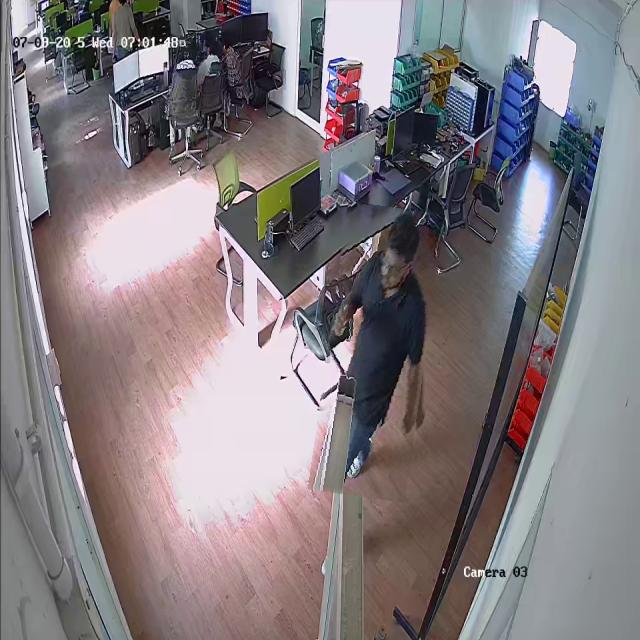person: (318, 204, 436, 499), (166, 40, 200, 123), (218, 34, 247, 105), (196, 40, 221, 112)
